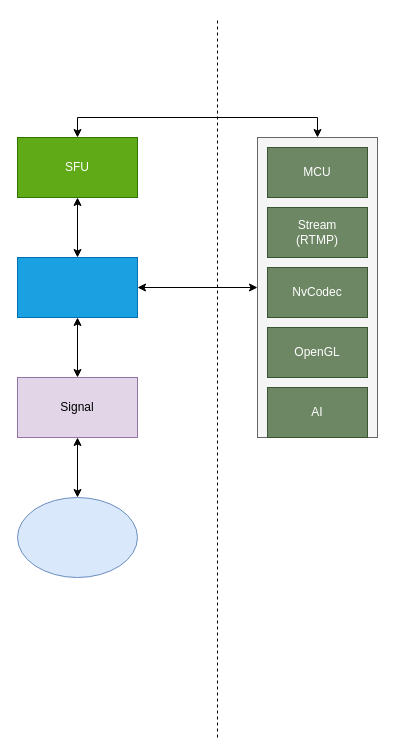
This 395x756 diagram has some shape labels left out. The shapes that lost their labels are listed below. From the top down, each one's centre as x and y in pixels, then its label:
(x=77, y=287): NATS
(x=77, y=537): Client
